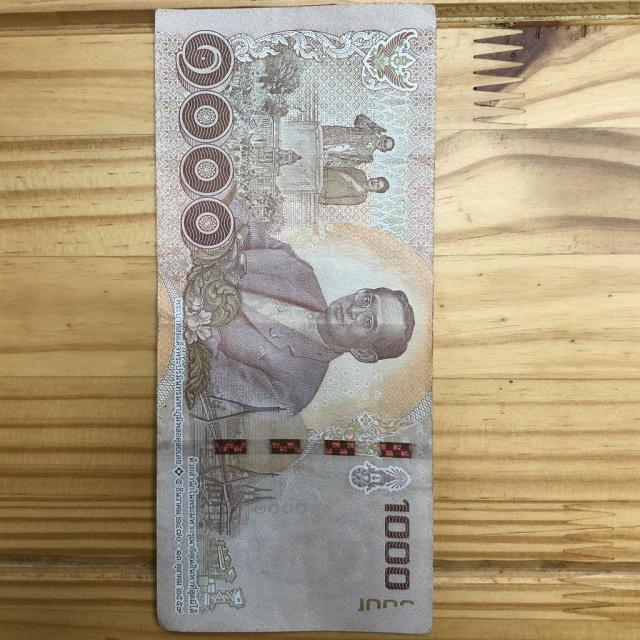THAI1000: (156, 4, 434, 633)
